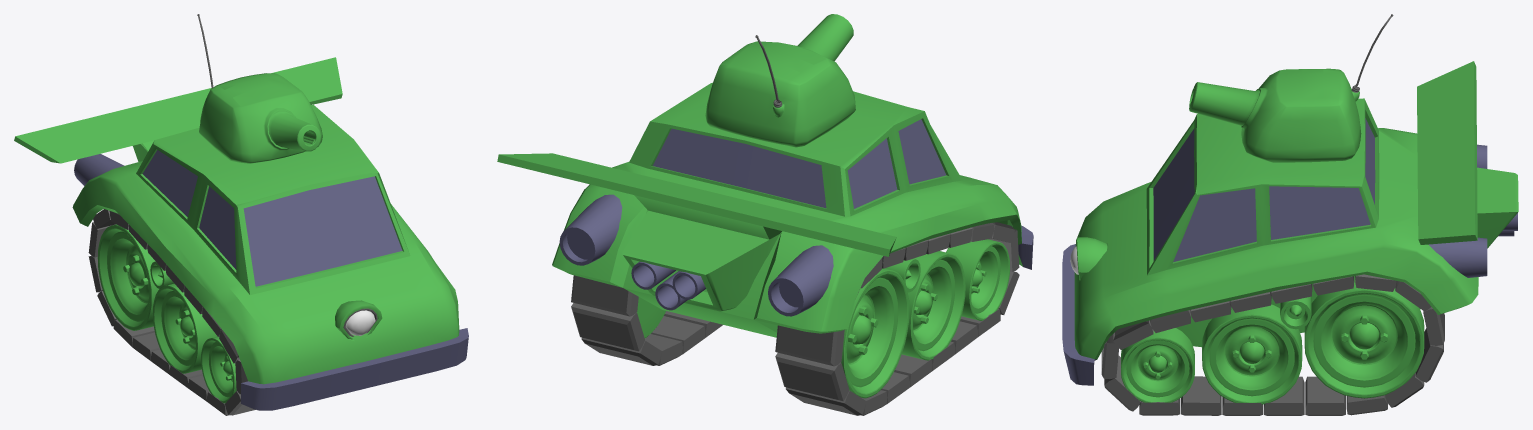
Rendered from PlayerA.glb.
3 views of the same model, side by side, from view 1: azimuth 30°, elevation 25°; view 2: azimuth 150°, elevation 25°; view 3: azimuth 270°, elevation 25° (orthographic). The views are drawn at different scales.
Visible parts, largest first — view 1: TankFastChassis, TankFastTracksLeft, TankTurret.002; view 2: TankFastChassis, TankFastTracksLeft, TankTurret.002, TankFastTracksRight; view 3: TankFastChassis, TankFastTracksRight, TankTurret.002.
Part boxes in pixels (left/top/right/bottom): TankFastChassis: left=14, top=57, right=468, bottom=410; TankFastTracksLeft: left=88, top=209, right=255, bottom=415; TankTurret.002: left=197, top=14, right=322, bottom=163; TankFastChassis: left=497, top=82, right=1033, bottom=337; TankFastTracksLeft: left=775, top=222, right=1019, bottom=415; TankTurret.002: left=705, top=14, right=855, bottom=147; TankFastTracksRight: left=571, top=275, right=722, bottom=365; TankFastChassis: left=1062, top=61, right=1518, bottom=385; TankFastTracksRight: left=1101, top=274, right=1444, bottom=415; TankTurret.002: left=1189, top=14, right=1393, bottom=162.
Size of the model in its own units: 1.84 by 1.64 by 2.04.
